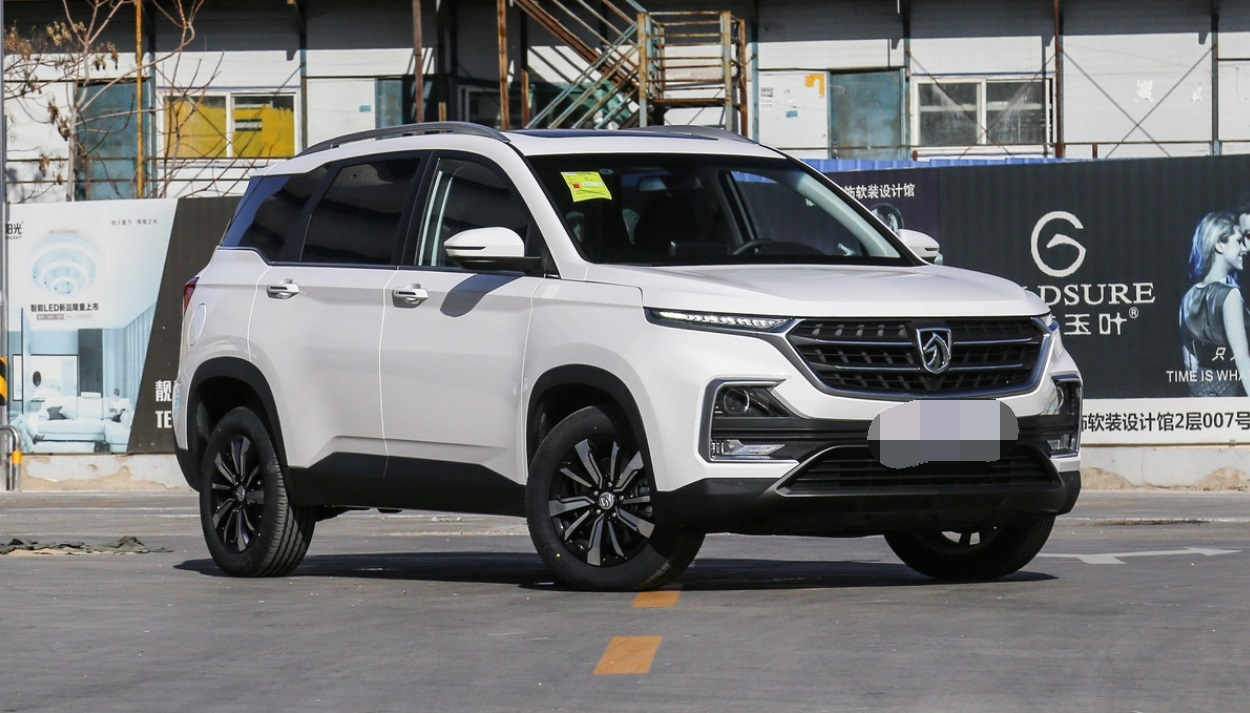SUV: (174, 120, 1090, 586)
